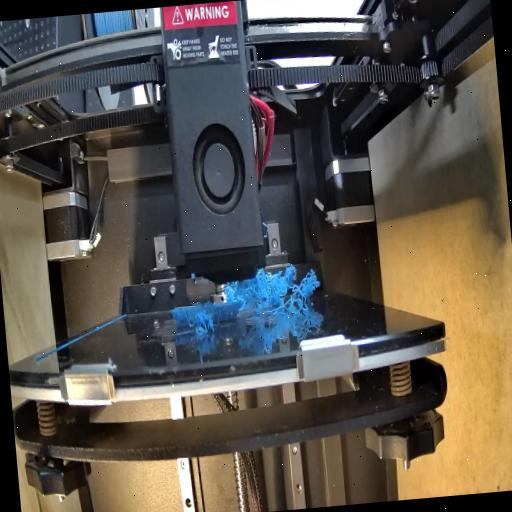spaghetti: (226, 268, 321, 320), (187, 300, 223, 341)
